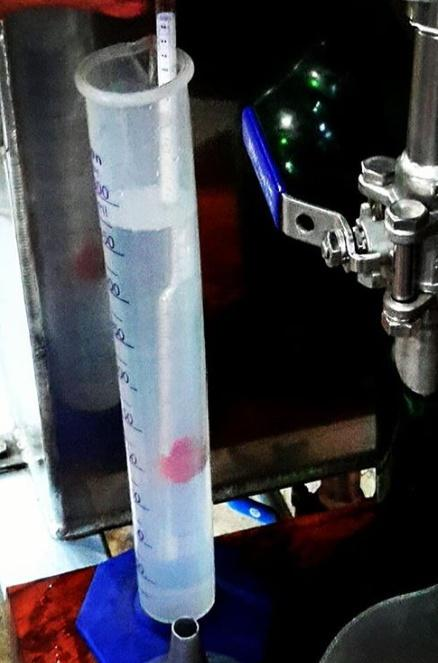Test tube: (79, 28, 226, 624)
